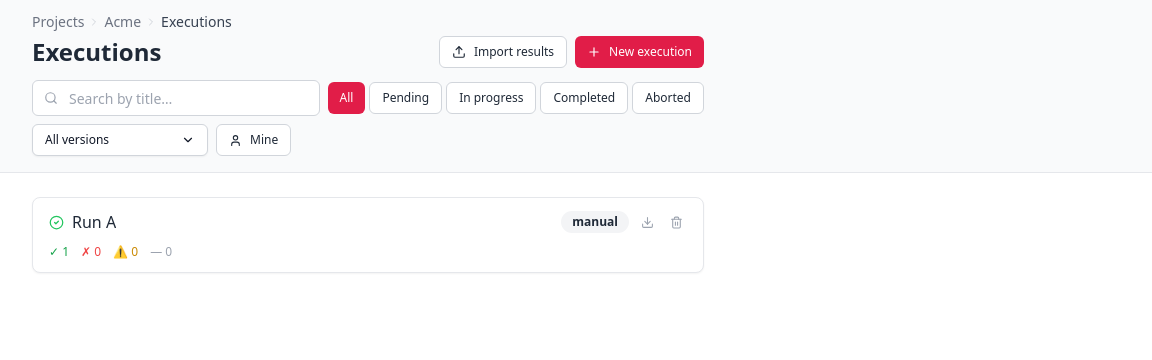
Scenario: ExecutionsPage › keeps filter buttons visible after filtering yields empty result
Expected: the text "Run A" is shown, 72,210 -> 116,234
Click the button "In progress": (491, 98) 446,82 -> 536,114
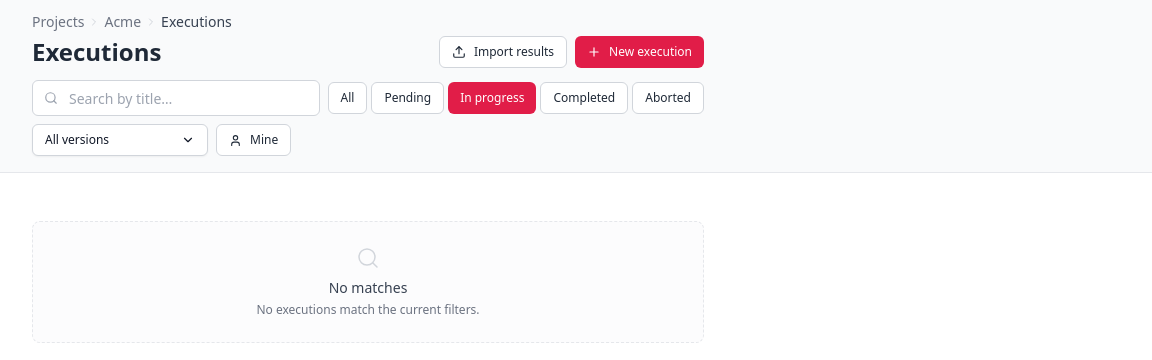
Expected: the button "All" is shown, 328,82 -> 367,114
Now the text "No matches" is shown, box 329,278 -> 407,298
